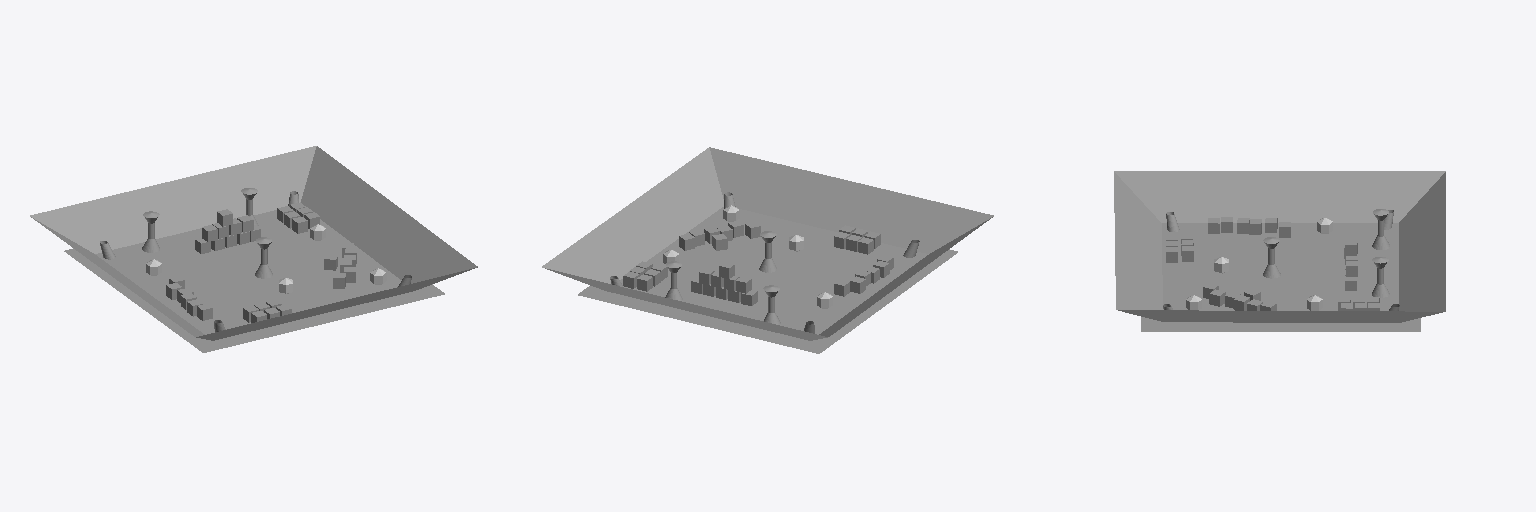
Rendered from skene.obj.
3 renders of one model, left to right at view 1: azimuth 30°, elevation 25°; view 2: azimuth 150°, elevation 25°; view 3: azimuth 270°, elevation 25°, orthographic.
Parts seen in each view (by area): view 1: Plane.001_None_GRAVST, Plane_None_CHRMWARP.J; view 2: Plane.001_None_GRAVST, Plane_None_CHRMWARP.J; view 3: Plane.001_None_GRAVST, Plane_None_CHRMWARP.J.
Part boxes in pixels (x1,y1,x2,y2): Plane.001_None_GRAVST: (30,146,477,340); Plane_None_CHRMWARP.J: (64,210,444,352); Plane.001_None_GRAVST: (542,147,993,340); Plane_None_CHRMWARP.J: (578,207,957,353); Plane.001_None_GRAVST: (1114,171,1445,322); Plane_None_CHRMWARP.J: (1141,223,1420,331).
Bounding box in the file's own units: 18.99 × 2.42 × 18.99.